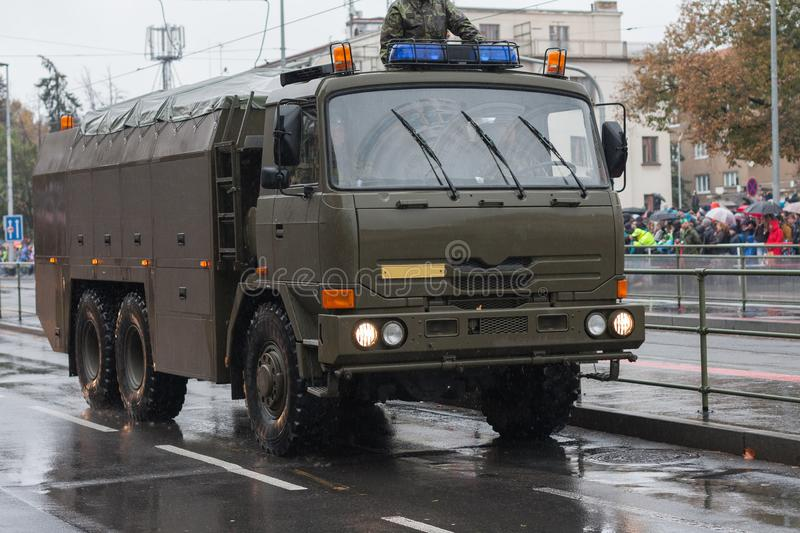camion: (25, 62, 636, 427)
